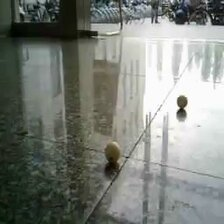w: (105, 142, 122, 163), (176, 94, 189, 110)
